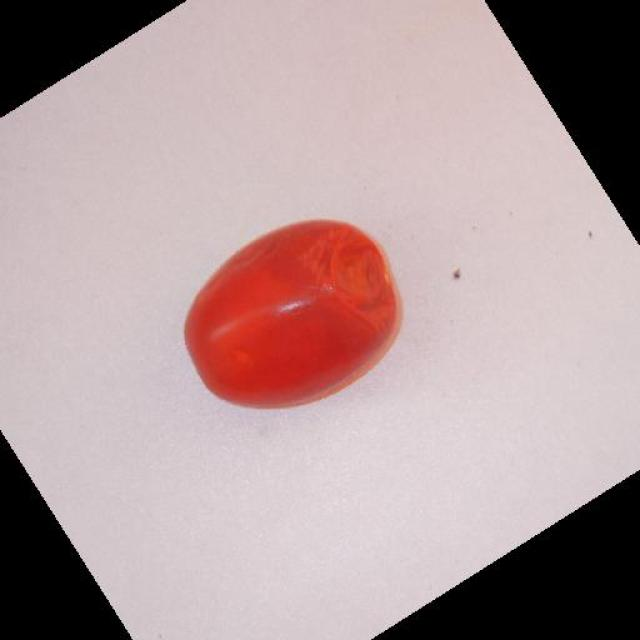Stale_tomato: (192, 229, 398, 387)
